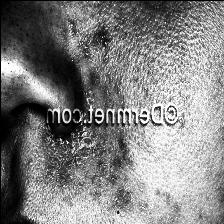Non-Cancerous Skin Condition: (46, 134, 132, 201), (58, 12, 109, 98)
